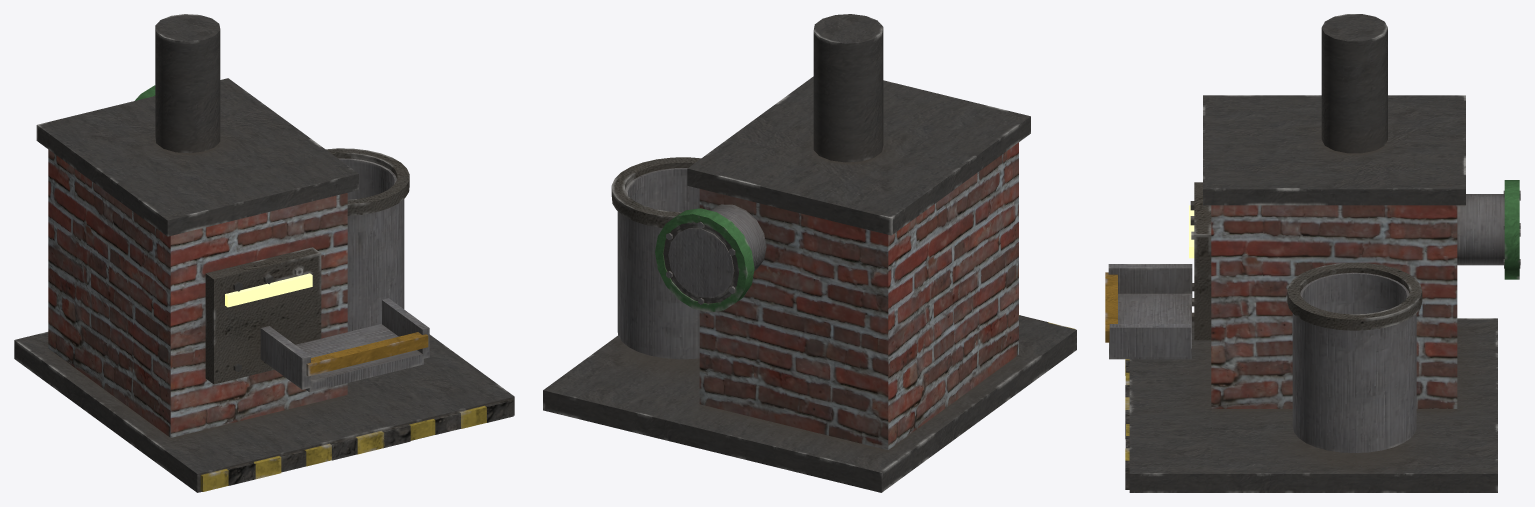
The model's file is feTemperFurnace_HD.fbx.
The picture shows the model from 3 angles, left to right: view 1: azimuth 30°, elevation 25°; view 2: azimuth 150°, elevation 25°; view 3: azimuth 270°, elevation 25°; orthographic projection. The views are drawn at different scales.
Parts seen in each view (by area): view 1: feTemperFurnace_Base; view 2: feTemperFurnace_Base; view 3: feTemperFurnace_Base.
Part boxes in pixels (x1,y1,x2,y2): feTemperFurnace_Base: (14, 14, 514, 492); feTemperFurnace_Base: (543, 14, 1076, 492); feTemperFurnace_Base: (1105, 14, 1520, 492).
Size of the model in its own units: 0.9012 by 0.9718 by 1.02.
Materials: 3 (1 with a texture image).
